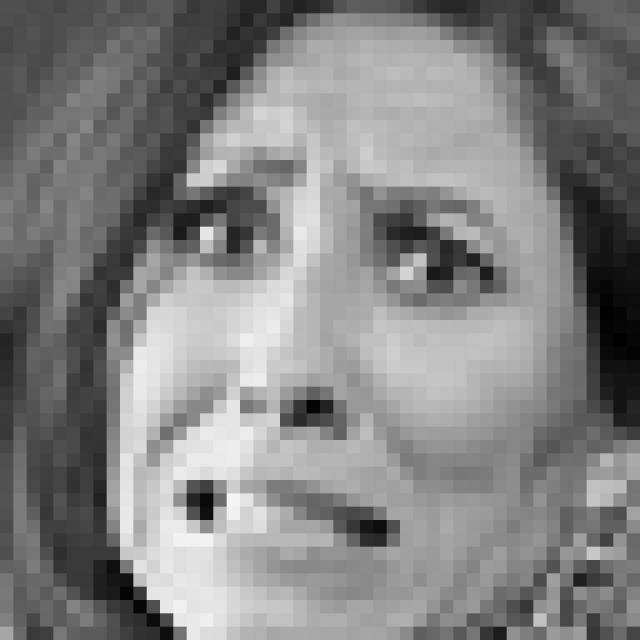fear: (120, 149, 517, 586)
